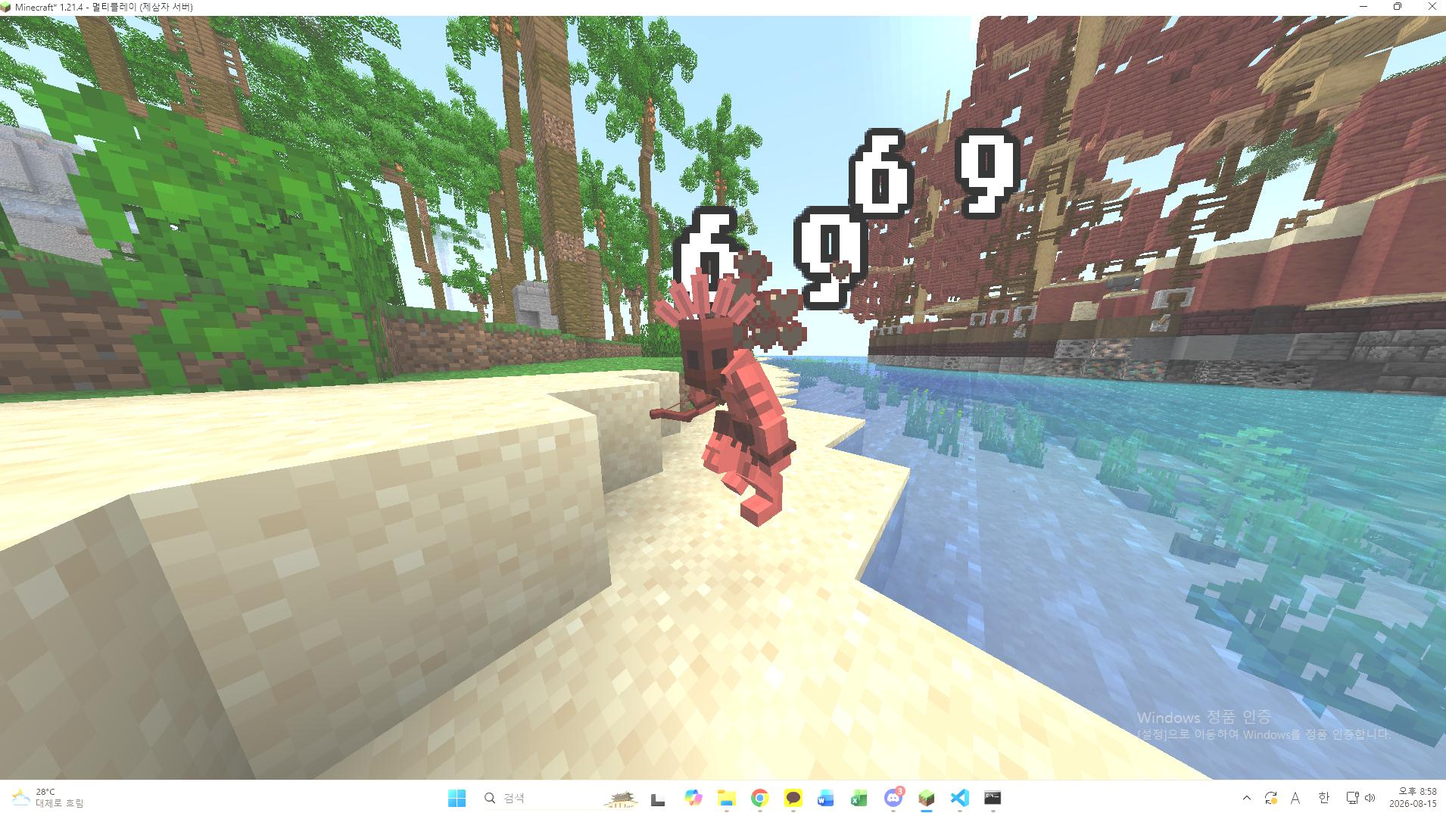bow_indian: (640, 267, 847, 523)
